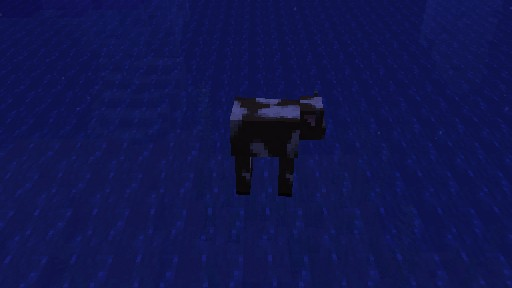cow: (229, 90, 325, 196)
